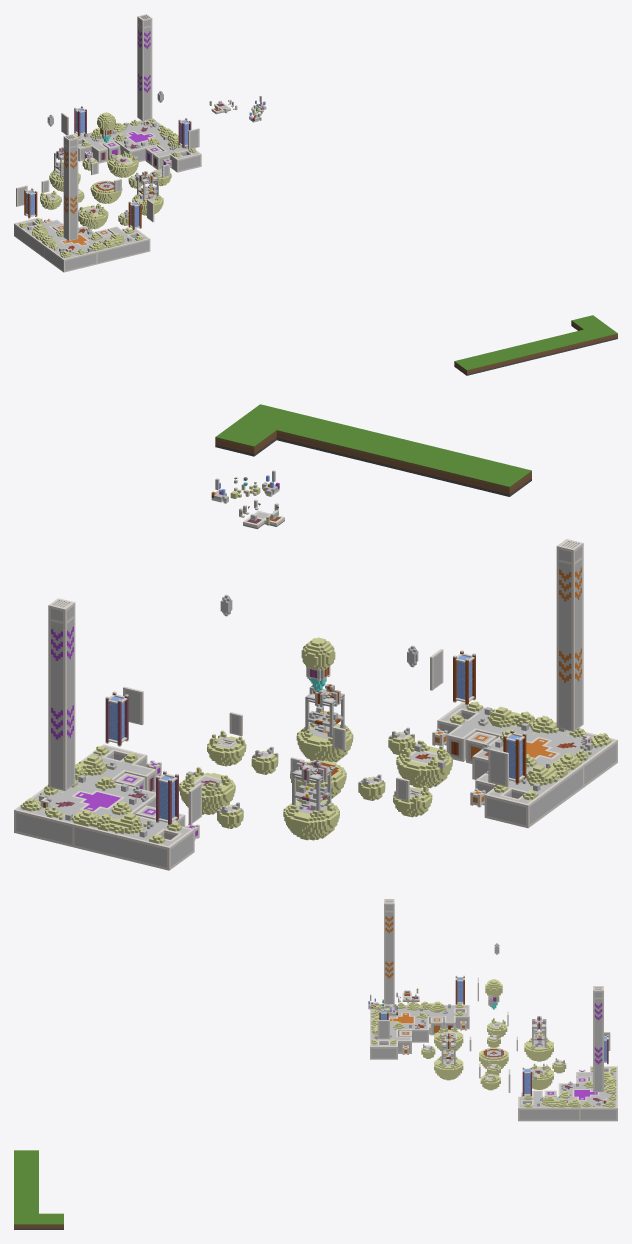
The model's file is minecraft.obj.
The picture shows the model from 3 angles, top to bottom: view 1: azimuth 30°, elevation 25°; view 2: azimuth 150°, elevation 25°; view 3: azimuth 270°, elevation 25°; orthographic projection. The views are drawn at different scales.
Size of the model in its own units: 279 by 108 by 387.
